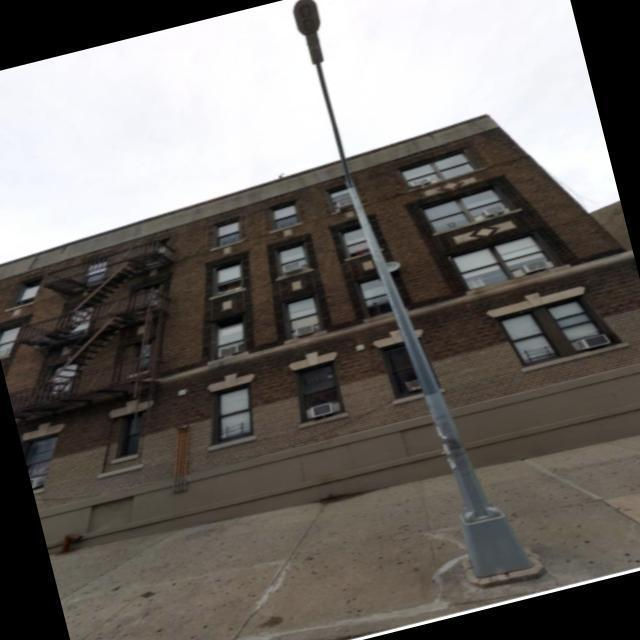off: (240, 0, 414, 176)
